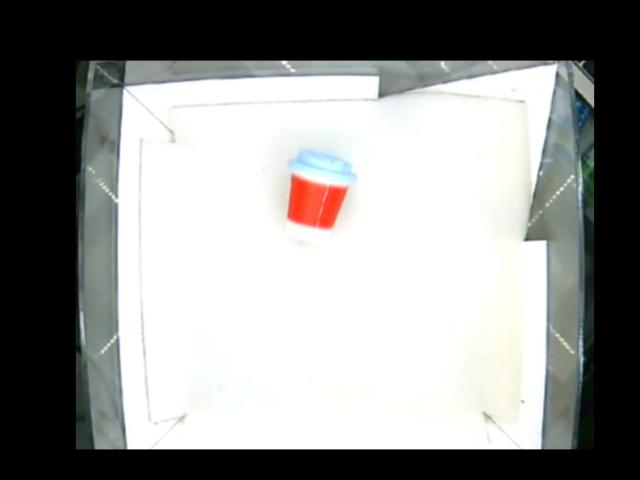Cup: (285, 151, 356, 245)
